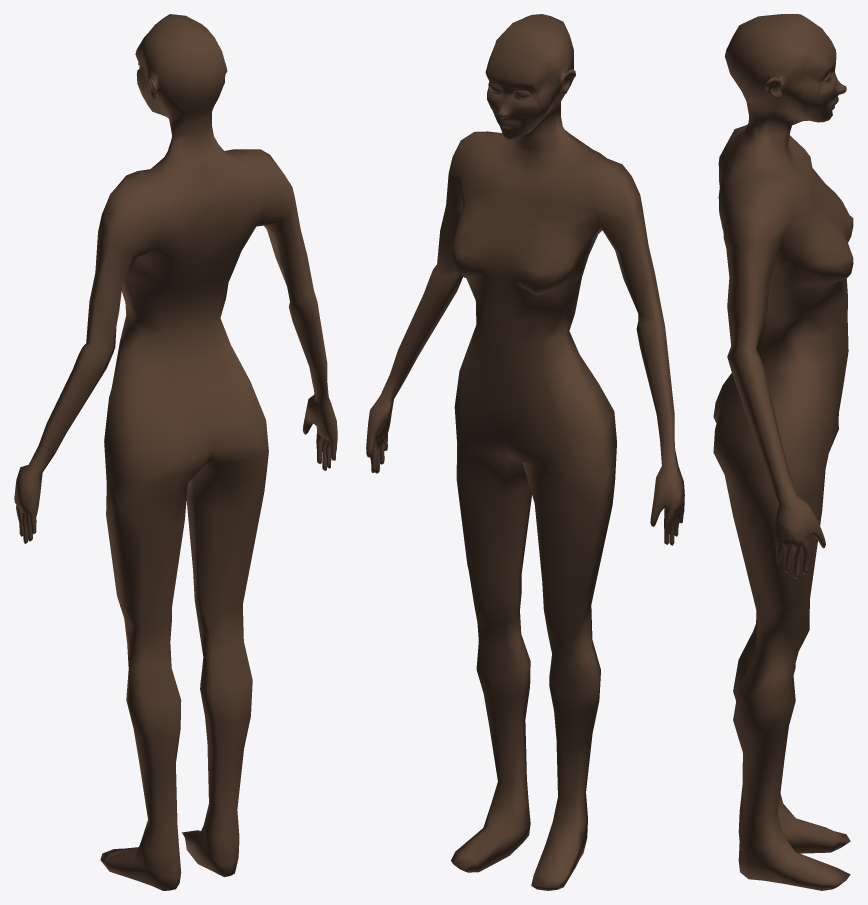
The model's file is Cuerpo.FBX.
3 views of the same model, side by side, from view 1: azimuth 30°, elevation 25°; view 2: azimuth 150°, elevation 25°; view 3: azimuth 270°, elevation 25° (orthographic).
Parts seen in each view (by area): view 1: Modelo_base; view 2: Modelo_base; view 3: Modelo_base.
Part boxes in pixels (x1,y1,x2,y2): Modelo_base: [14, 14, 337, 890]; Modelo_base: [366, 14, 684, 890]; Modelo_base: [713, 14, 853, 890].
Size of the model in its own units: 123 by 322 by 48.09.
